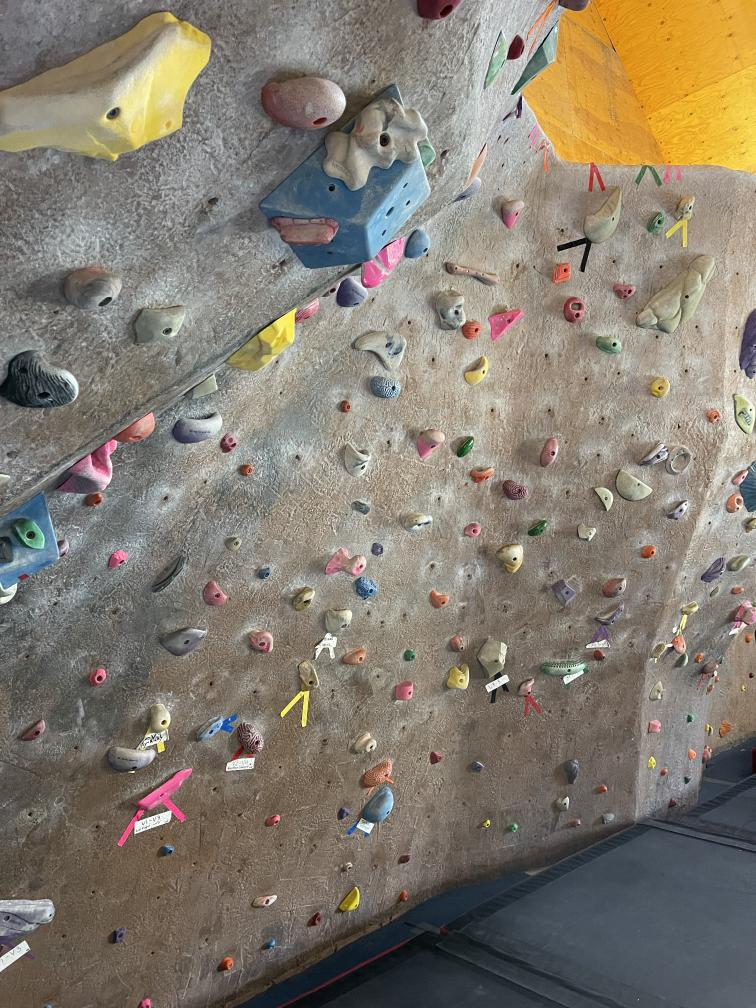Crimp: (0, 8, 218, 166), (581, 186, 628, 246), (150, 552, 190, 596), (485, 28, 509, 91), (614, 467, 654, 502), (637, 434, 670, 468), (17, 716, 53, 746), (595, 600, 630, 628), (195, 713, 226, 744), (571, 519, 603, 546), (201, 579, 229, 607), (591, 482, 614, 514), (539, 435, 559, 471), (665, 498, 692, 521), (455, 433, 475, 460), (507, 34, 526, 61), (527, 519, 548, 538), (705, 407, 723, 427), (709, 586, 720, 599), (730, 587, 746, 595)
Edges: (633, 251, 723, 335), (223, 304, 297, 374), (54, 440, 121, 497), (511, 21, 560, 97), (361, 231, 405, 287), (477, 633, 511, 684), (444, 257, 501, 287), (700, 556, 727, 584)
Foothold: (544, 790, 576, 818), (560, 754, 586, 788), (335, 886, 363, 914), (103, 545, 134, 568), (596, 807, 620, 829), (88, 664, 113, 685), (398, 645, 422, 666), (461, 522, 486, 542), (220, 429, 240, 453), (368, 537, 388, 561), (221, 534, 245, 553), (427, 747, 448, 768), (234, 462, 258, 480), (253, 565, 274, 584), (468, 757, 488, 776), (649, 680, 666, 702), (334, 397, 354, 415), (252, 896, 278, 909), (505, 817, 524, 834), (640, 543, 657, 561), (262, 814, 282, 828), (220, 956, 236, 972), (158, 845, 174, 861), (596, 782, 607, 805), (564, 814, 582, 828), (719, 719, 733, 737), (112, 928, 127, 944), (593, 648, 608, 664), (701, 744, 713, 763), (645, 757, 659, 773), (334, 807, 351, 820), (310, 912, 324, 927), (396, 889, 409, 904), (399, 852, 412, 866), (263, 940, 278, 952), (340, 861, 356, 872), (686, 713, 696, 729), (665, 800, 678, 812), (682, 772, 692, 787), (687, 747, 698, 759), (658, 768, 670, 779), (480, 819, 493, 829), (694, 653, 704, 663), (749, 670, 756, 680), (709, 724, 713, 736), (705, 724, 710, 732), (740, 685, 744, 692)
Jug: (319, 98, 433, 186), (241, 62, 346, 140), (0, 342, 85, 427), (131, 769, 204, 813), (275, 212, 345, 253), (352, 329, 412, 371), (158, 626, 212, 659), (168, 412, 223, 444), (105, 744, 156, 773), (341, 439, 375, 482), (241, 624, 280, 661), (326, 546, 368, 579), (488, 306, 525, 342), (336, 277, 369, 310), (495, 541, 527, 574), (498, 196, 526, 230), (734, 393, 756, 436), (404, 227, 431, 262), (324, 607, 354, 638), (416, 428, 445, 460), (463, 354, 490, 388), (401, 509, 435, 536), (296, 660, 320, 698), (444, 664, 472, 692), (291, 582, 316, 613), (593, 334, 624, 357), (426, 584, 452, 611), (513, 675, 537, 702), (674, 193, 696, 222), (600, 577, 628, 599), (648, 376, 672, 400), (733, 601, 756, 626), (469, 465, 497, 484), (678, 599, 702, 621), (462, 321, 484, 342), (729, 554, 752, 574), (651, 640, 667, 662), (672, 635, 688, 654), (701, 662, 718, 676), (677, 654, 689, 668), (707, 684, 714, 694), (714, 676, 719, 684)
Pinch: (48, 265, 134, 315), (128, 299, 190, 352), (10, 514, 50, 552), (436, 284, 466, 333), (147, 698, 173, 739), (551, 575, 580, 611), (540, 660, 588, 677), (548, 259, 574, 287), (394, 676, 418, 705), (644, 207, 666, 238), (354, 577, 378, 602), (340, 647, 368, 667), (611, 281, 637, 302), (354, 733, 377, 755), (648, 719, 664, 734)
Pocket: (665, 440, 695, 478), (720, 487, 746, 520), (561, 295, 587, 326)
Sloper: (361, 786, 399, 826), (234, 719, 266, 758), (362, 757, 393, 790), (369, 375, 401, 400), (501, 478, 531, 502), (447, 634, 466, 654), (745, 633, 752, 644)
